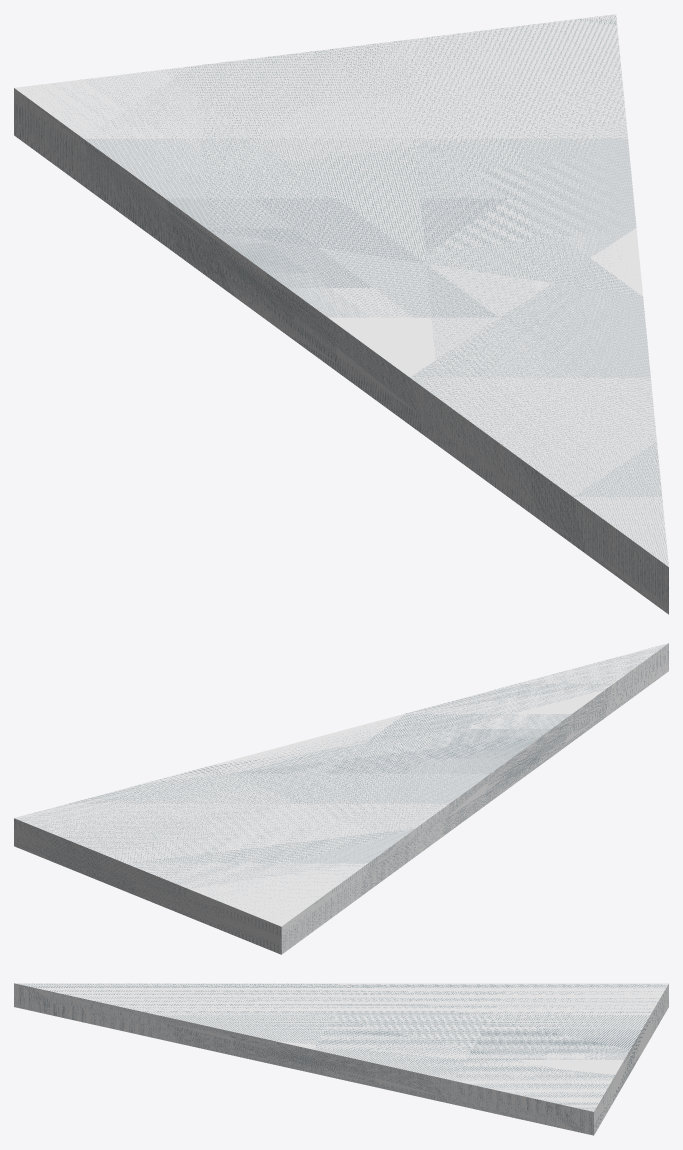
Rendered from triangle 27 deg.fbx.
3 renders of one model, top to bottom at view 1: azimuth 30°, elevation 25°; view 2: azimuth 150°, elevation 25°; view 3: azimuth 270°, elevation 25°, orthographic. The views are drawn at different scales.
Visible parts, largest first — view 1: Model; view 2: Model; view 3: Model.
Boxes of the visible parts, x1,y1,x2,y2 form: Model: (14, 14, 668, 614); Model: (14, 643, 668, 954); Model: (14, 983, 668, 1135).
Size of the model in its own units: 2.32 by 0.2 by 5.
